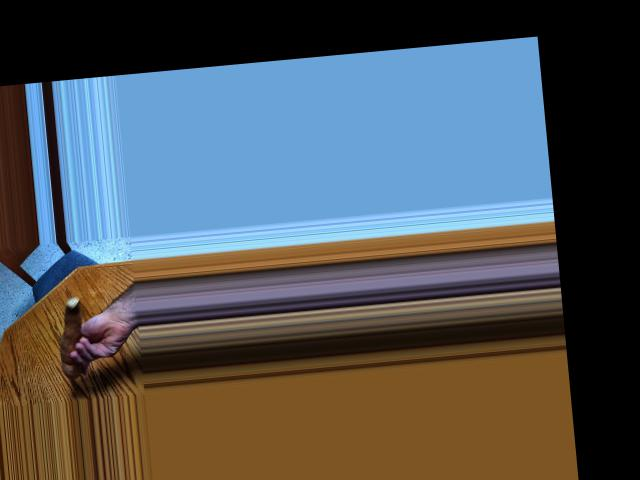sweet_potato: (52, 298, 94, 380)
